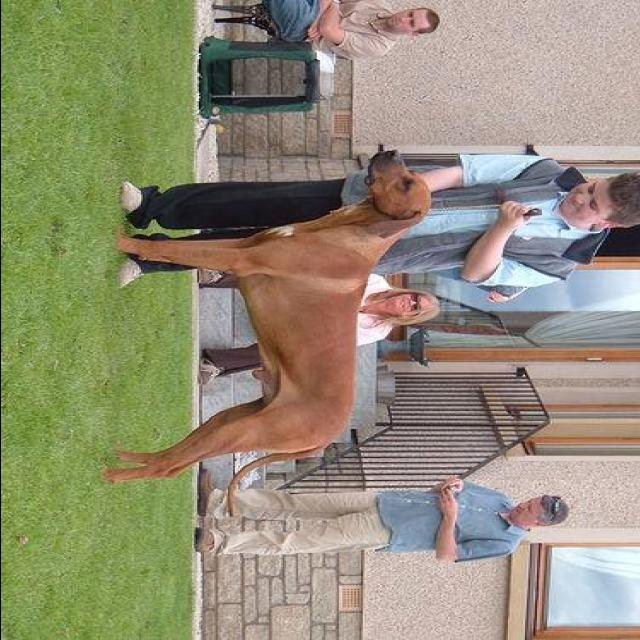rhodesian_ridgeback: (99, 147, 430, 521)
